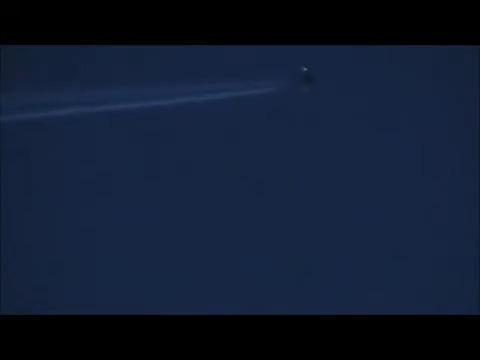Plane: (1, 61, 346, 140)
